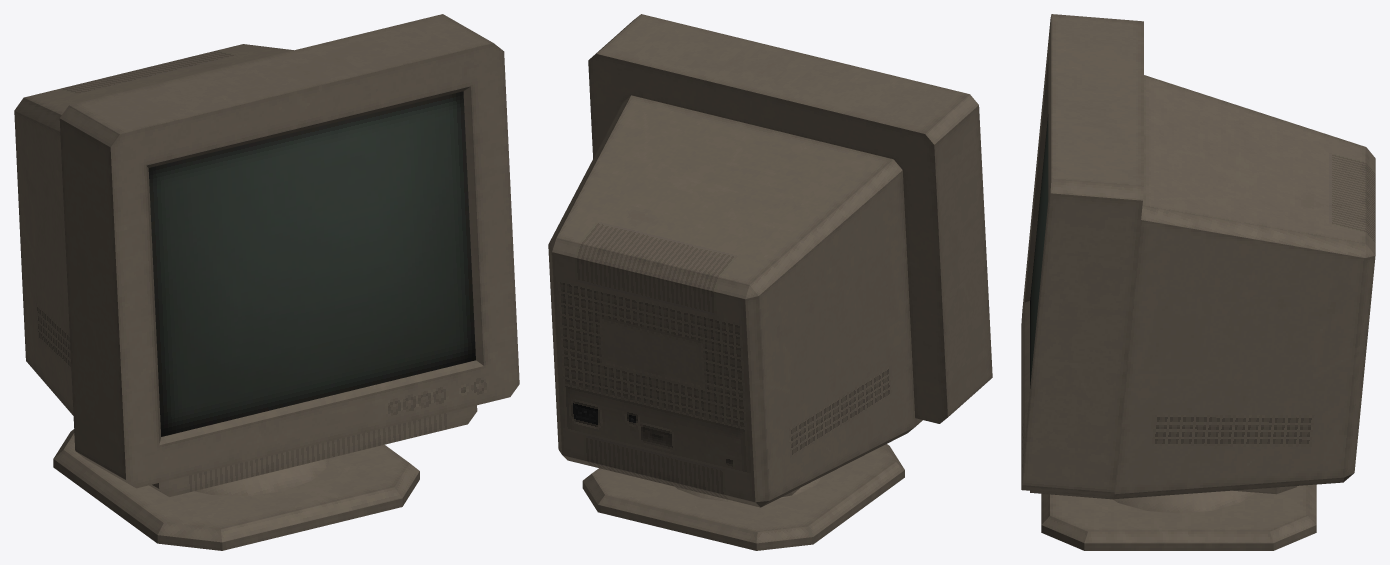
Rendered from pc_monitor_mp_1.glb.
3 views of the same model, side by side, from view 1: azimuth 30°, elevation 25°; view 2: azimuth 150°, elevation 25°; view 3: azimuth 270°, elevation 25° (orthographic). The views are drawn at different scales.
Visible parts, largest first — view 1: pc_monitor_mp_1_screen, pc_monitor_mp_1; view 2: pc_monitor_mp_1_screen, pc_monitor_mp_1; view 3: pc_monitor_mp_1_screen, pc_monitor_mp_1.
Part boxes in pixels (x1=…): pc_monitor_mp_1_screen: x1=14, y1=14, x2=519, y2=496; pc_monitor_mp_1: x1=53, y1=429, x2=419, y2=550; pc_monitor_mp_1_screen: x1=548, y1=14, x2=992, y2=507; pc_monitor_mp_1: x1=582, y1=444, x2=904, y2=550; pc_monitor_mp_1_screen: x1=1021, y1=14, x2=1375, y2=499; pc_monitor_mp_1: x1=1041, y1=484, x2=1316, y2=550.
Size of the model in its own units: 0.48 by 0.5083 by 0.412.
Materials: 2 (2 with a texture image).
